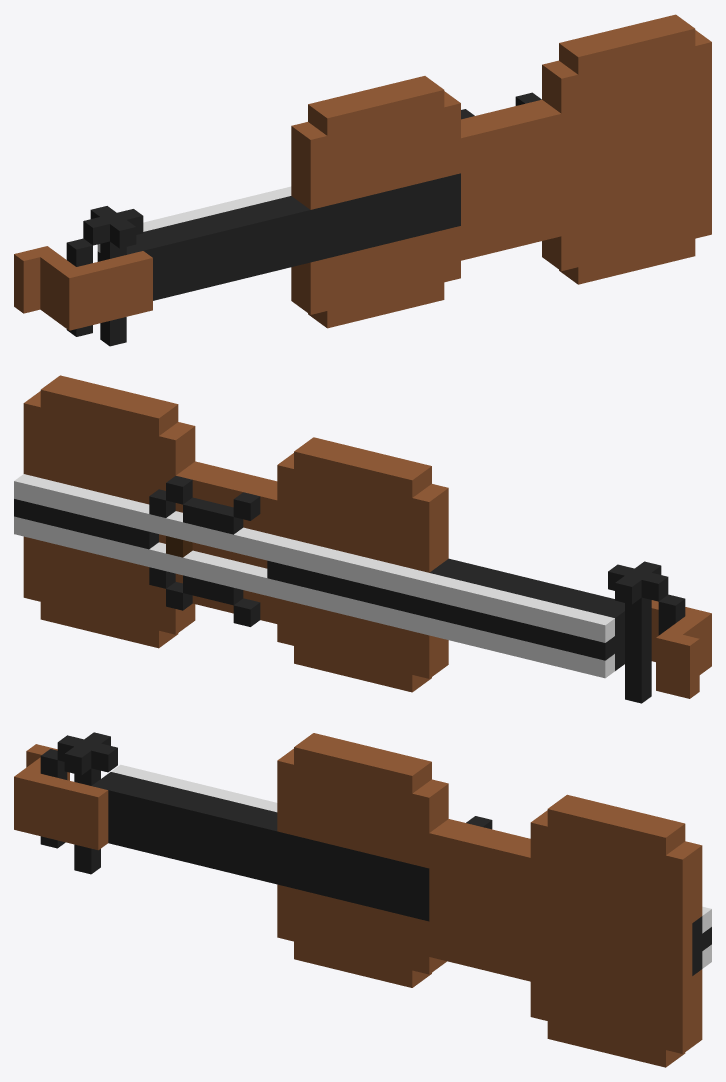
File: SchoolPack-15-VIOLIN.obj
3 renders of one model, top to bottom at view 1: azimuth 30°, elevation 25°; view 2: azimuth 150°, elevation 25°; view 3: azimuth 330°, elevation 25°, orthographic.
Visible parts, largest first — view 1: VIOLIN; view 2: VIOLIN; view 3: VIOLIN.
Part boxes in pixels (x1,y1,x2,y2): VIOLIN: (14,14,711,346); VIOLIN: (14,375,711,703); VIOLIN: (14,732,711,1067).
Size of the model in its own units: 4 by 1.3 by 0.4.
1 material, 1 textured.
